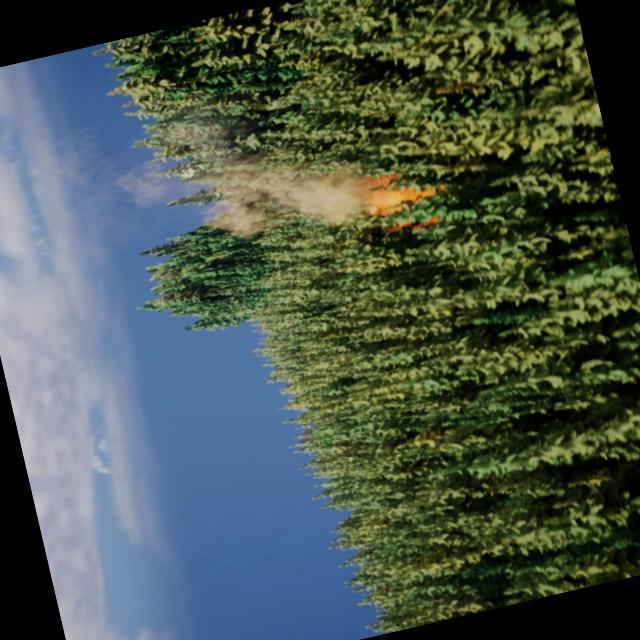fire: (357, 160, 452, 238)
smoke: (92, 81, 399, 270)
